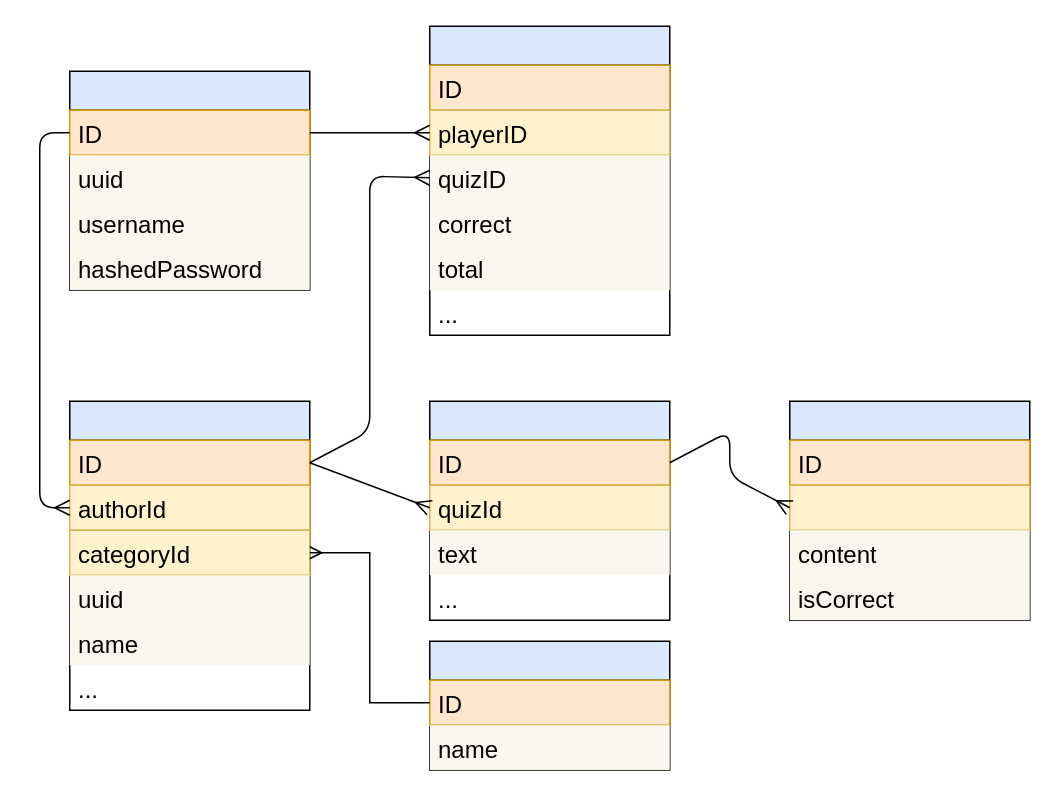
This 1056x801 diagram has some shape labels left out. Here are the shapes that lost their labels. From the top down, the box of each, then its label:
(68, 70, 310, 290): Player
(428, 25, 670, 335): Result
(428, 400, 670, 620): Question
(788, 484, 1030, 530): questionId
(788, 400, 1030, 620): Answer
(68, 400, 310, 710): Quiz
(428, 640, 670, 770): Category
